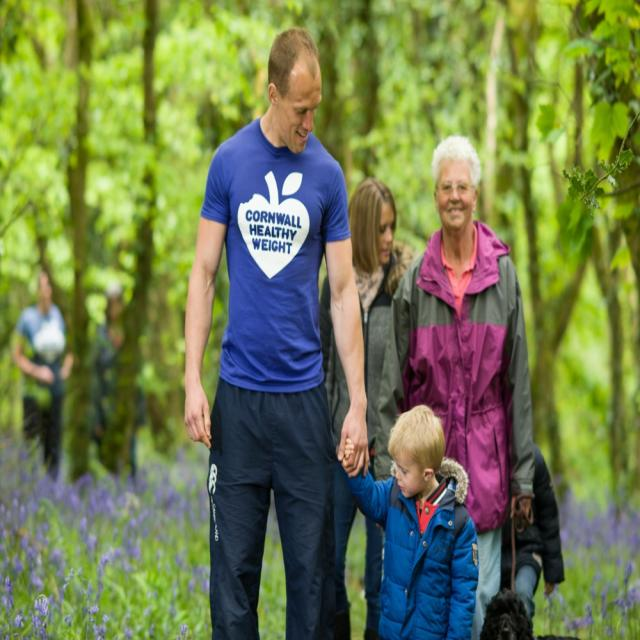body: (181, 22, 371, 639), (369, 132, 538, 639), (318, 174, 417, 640), (334, 400, 482, 639), (9, 271, 75, 484), (498, 440, 566, 639), (92, 281, 147, 481)
